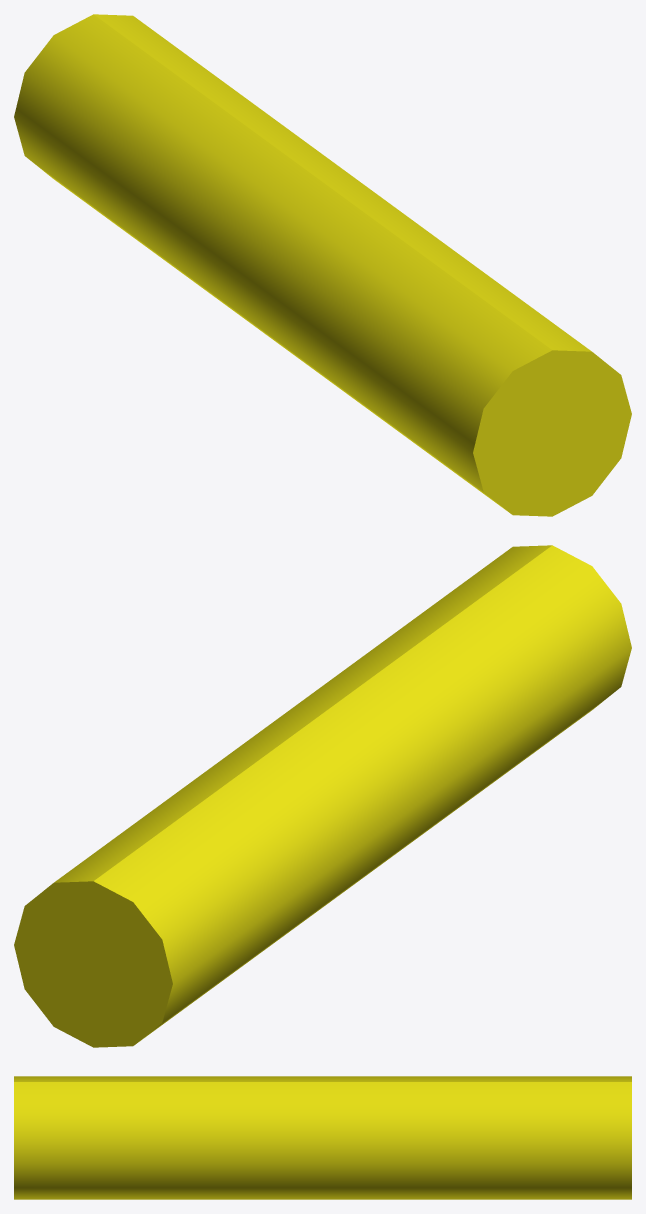
The model's file is Pipe4.fbx.
The picture shows the model from 3 angles, top to bottom: view 1: azimuth 30°, elevation 25°; view 2: azimuth 150°, elevation 25°; view 3: azimuth 270°, elevation 25°; orthographic projection. The views are drawn at different scales.
Parts seen in each view (by area): view 1: Pipe4; view 2: Pipe4; view 3: Pipe4.
Part boxes in pixels (bbox=[...]): Pipe4: bbox=[14, 14, 631, 516]; Pipe4: bbox=[14, 545, 631, 1047]; Pipe4: bbox=[14, 1076, 631, 1199].
Size of the model in its own units: 40 by 40 by 200.
